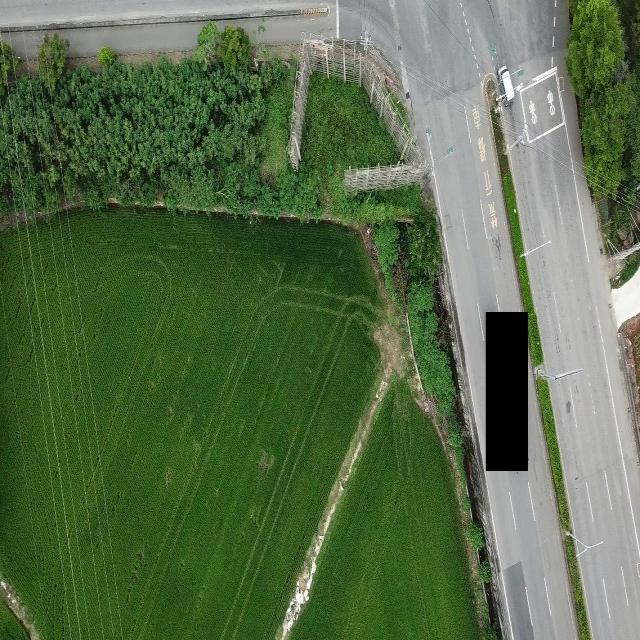car: (498, 68, 514, 107)
